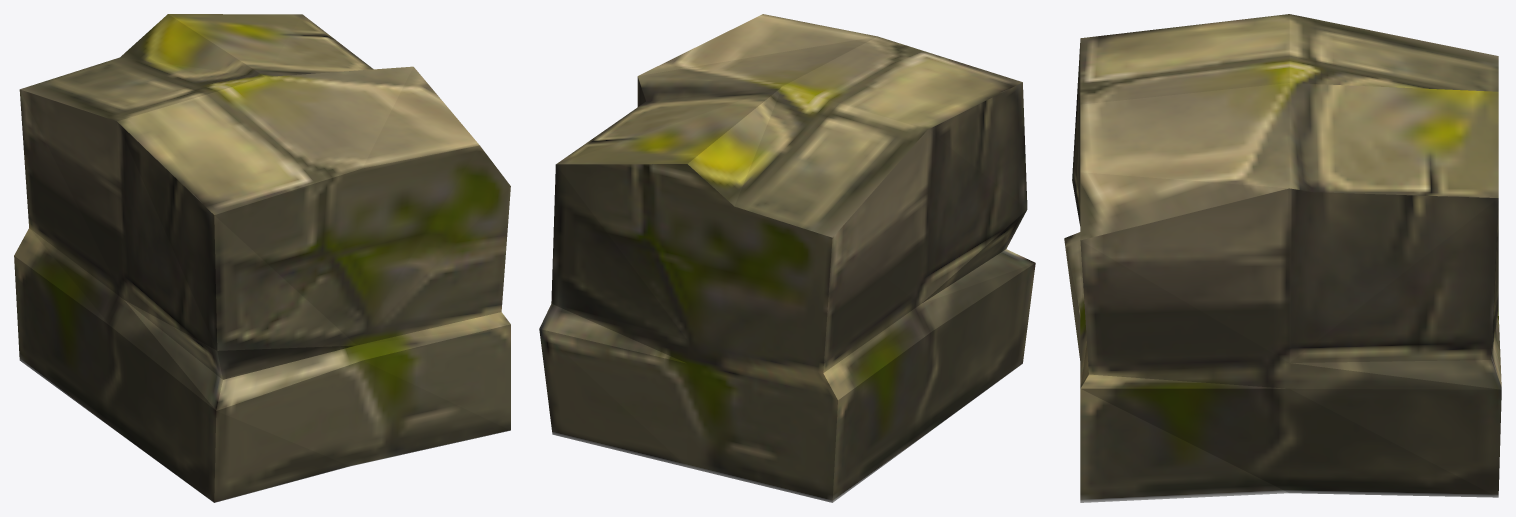
The model's file is ShiTou01.FBX.
The picture shows the model from 3 angles, left to right: view 1: azimuth 30°, elevation 25°; view 2: azimuth 150°, elevation 25°; view 3: azimuth 270°, elevation 25°; orthographic projection. The views are drawn at different scales.
Visible parts, largest first — view 1: 对象006; view 2: 对象006; view 3: 对象006.
Boxes of the visible parts, x1,y1,x2,y2 form: 对象006: (14, 14, 510, 502); 对象006: (539, 14, 1035, 502); 对象006: (1064, 14, 1501, 502).
Bounding box in the file's own units: 24.62 × 24.64 × 28.56.
